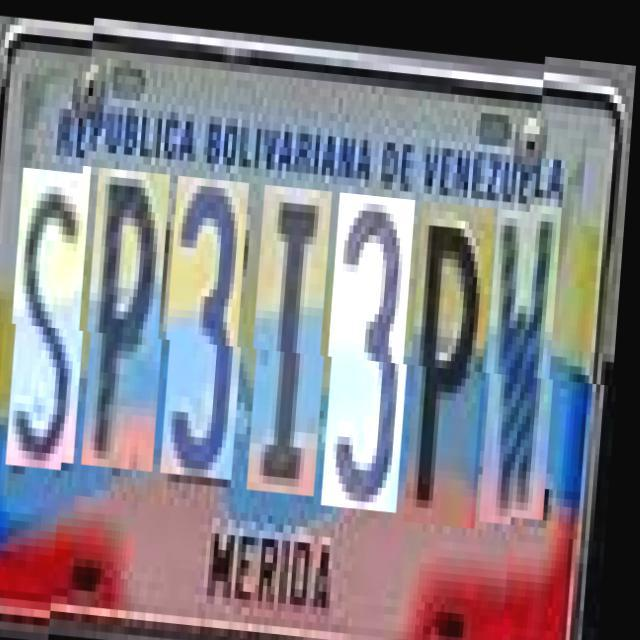3: (328, 185, 422, 503), (168, 172, 255, 474)
I: (254, 179, 338, 489)
P: (410, 192, 500, 518), (88, 165, 176, 468)
S: (13, 160, 98, 462)
W: (487, 198, 568, 515)
